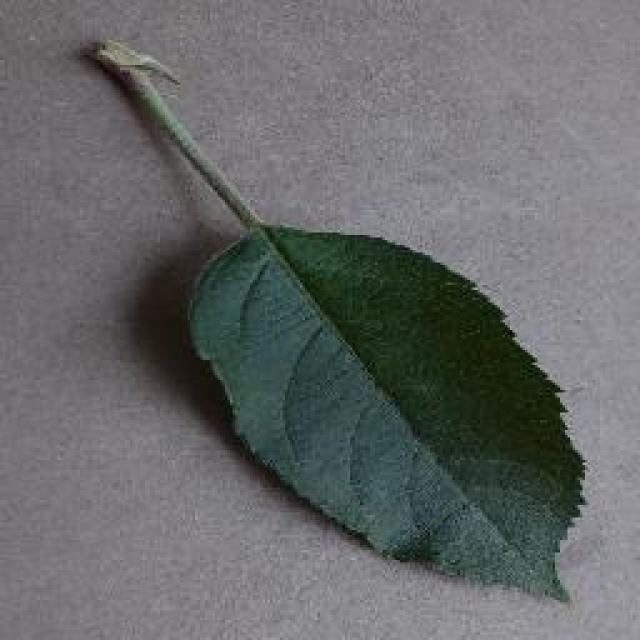apple healthy: (80, 32, 588, 602)
